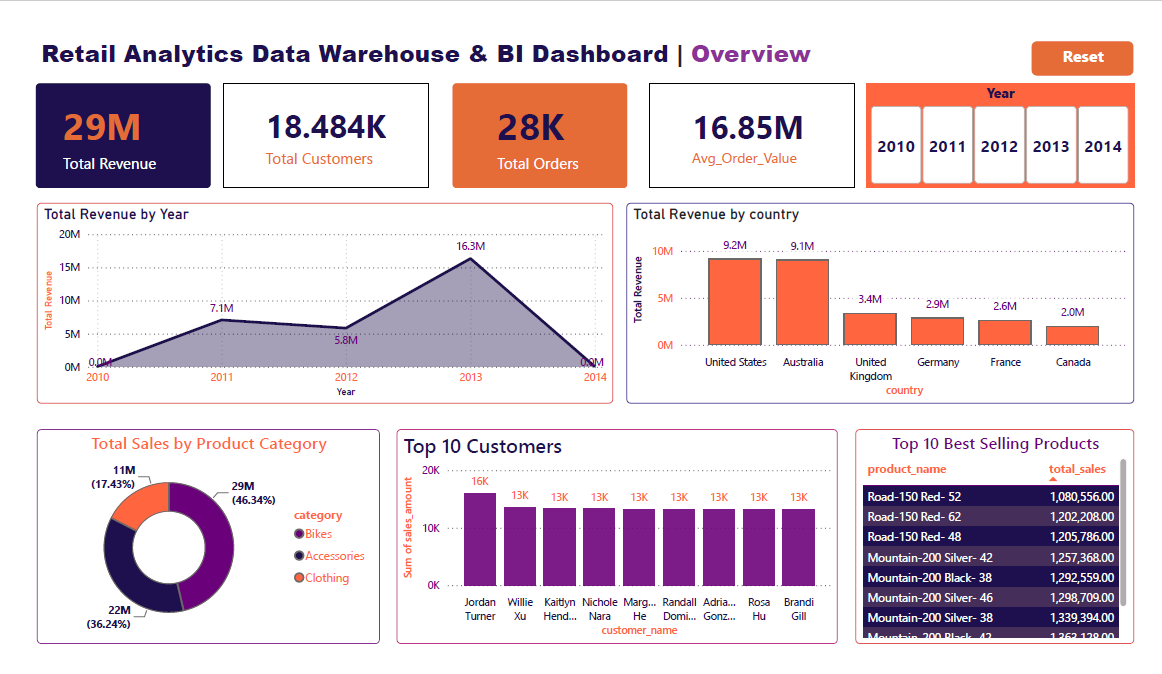

This screenshot's page, from the dashboard's own definition file:
{"tool":"powerbi","page":{"name":"Executive_Overview","canvas":[1280,720],"ordinal":0},"visuals":[{"type":"cardVisual","fields":{"Data":["Sum(customer_reports.total_sales)"]},"box":[55,48.8,202.6,128.8],"z":0,"group":"g1"},{"type":"cardVisual","fields":{"Data":["Count(gold fact_sales.customer_key)"]},"box":[248.6,50.2,216.8,127.4],"z":1000,"group":"g1"},{"type":"cardVisual","fields":{"Data":["Sum(products_report.total_orders)"]},"box":[456.3,50.2,189.7,127.4],"z":2000,"group":"g1"},{"type":"cardVisual","fields":{"Data":["Sum(customer_reports.avg_order_value)"]},"box":[637,50.2,215.5,127.4],"z":3000,"group":"g1"},{"type":"group","id":"g1","title":"Group 1","box":[55,48.8,797.5,128.8],"z":3500},{"type":"areaChart","fields":{"Category":["gold fact_sales.order_date.Variation.Date Hierarchy.Year","gold fact_sales.order_date.Variation.Date Hierarchy.Quarter","gold fact_sales.order_date.Variation.Date Hierarchy.Month","gold fact_sales.order_date.Variation.Date Hierarchy.Day"],"Y":["Sum(gold fact_sales.sales_amount)"]},"box":[82.5,167.5,572.5,247.5],"z":4000},{"type":"donutChart","title":"Total Sales by Product Category","fields":{"Category":["products_report.category"],"Y":["Sum(customer_reports.total_sales)"]},"box":[82.5,428.8,331.2,277.5],"z":5000},{"type":"lineStackedColumnComboChart","fields":{"Category":["customer_reports.country"],"Y":["Sum(customer_reports.total_sales)"]},"box":[683.8,167.5,573.8,247.5],"z":6000},{"type":"tableEx","title":"Top 10 Best Selling Products","fields":{"Values":["products_report.product_name","Sum(products_report.total_sales)"]},"box":[940,435,317.5,253.8],"z":7000},{"type":"columnChart","title":"Top 10 Customers","fields":{"Category":["customer_reports.customer_name"],"Y":["Sum(gold fact_sales.sales_amount)"]},"box":[427.5,428.8,503.8,277.5],"z":8000},{"type":"textbox","box":[18.8,11.2,665,53.8],"z":10000}]}

Visuals, with their boxes on the page's 1280x720 design canvas (x1, y1, x2, y2). These are canvas units, not pixel positions in the 1162x674 screenshot, which may show the page scaled, cropped or inside an application window:
cardVisual - Sum(customer_reports.total_sales): (x1=55, y1=49, x2=258, y2=178)
cardVisual - Count(gold fact_sales.customer_key): (x1=249, y1=50, x2=465, y2=178)
cardVisual - Sum(products_report.total_orders): (x1=456, y1=50, x2=646, y2=178)
cardVisual - Sum(customer_reports.avg_order_value): (x1=637, y1=50, x2=852, y2=178)
"Group 1" group: (x1=55, y1=49, x2=852, y2=178)
areaChart - gold fact_sales.order_date.Variation.Date Hierarchy.Year x gold fact_sales.order_date.Variation.Date Hierarchy.Quarter: (x1=82, y1=168, x2=655, y2=415)
"Total Sales by Product Category" donutChart: (x1=82, y1=429, x2=414, y2=706)
lineStackedColumnComboChart - customer_reports.country x Sum(customer_reports.total_sales): (x1=684, y1=168, x2=1258, y2=415)
"Top 10 Best Selling Products" tableEx: (x1=940, y1=435, x2=1258, y2=689)
"Top 10 Customers" columnChart: (x1=428, y1=429, x2=931, y2=706)
textbox: (x1=19, y1=11, x2=684, y2=65)
